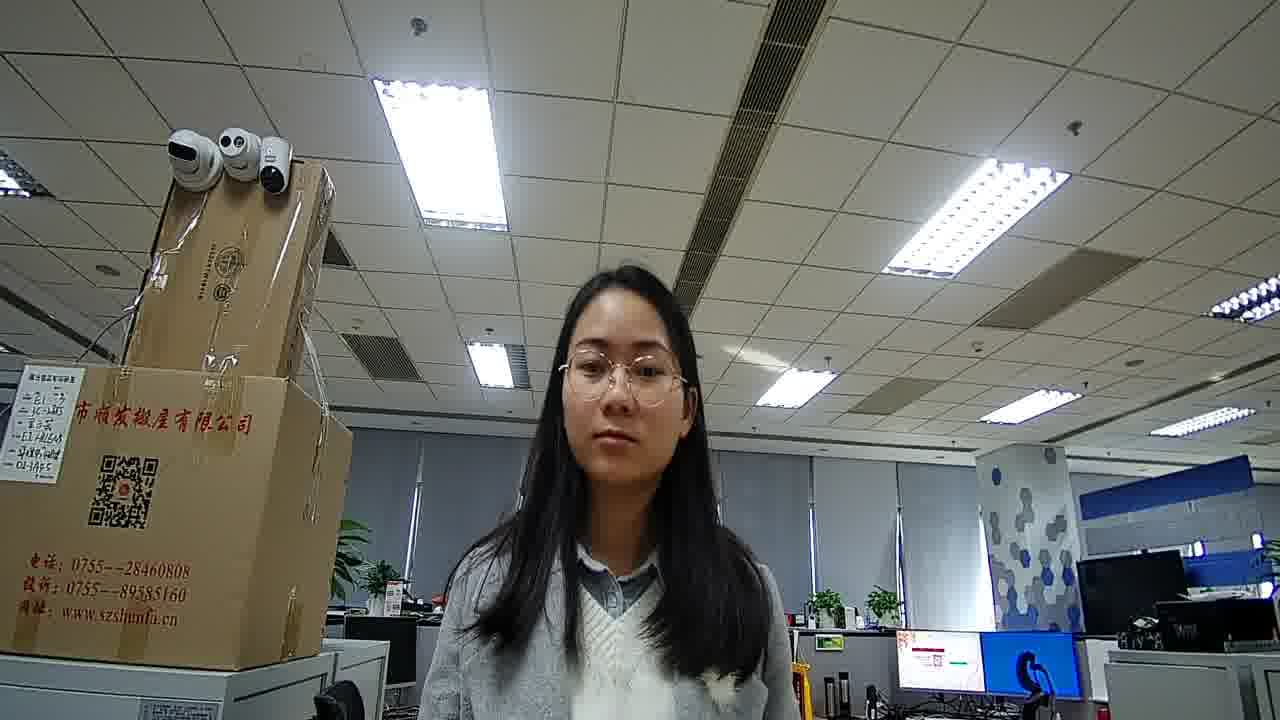face: (559, 290, 685, 490)
person: (433, 267, 785, 671)
